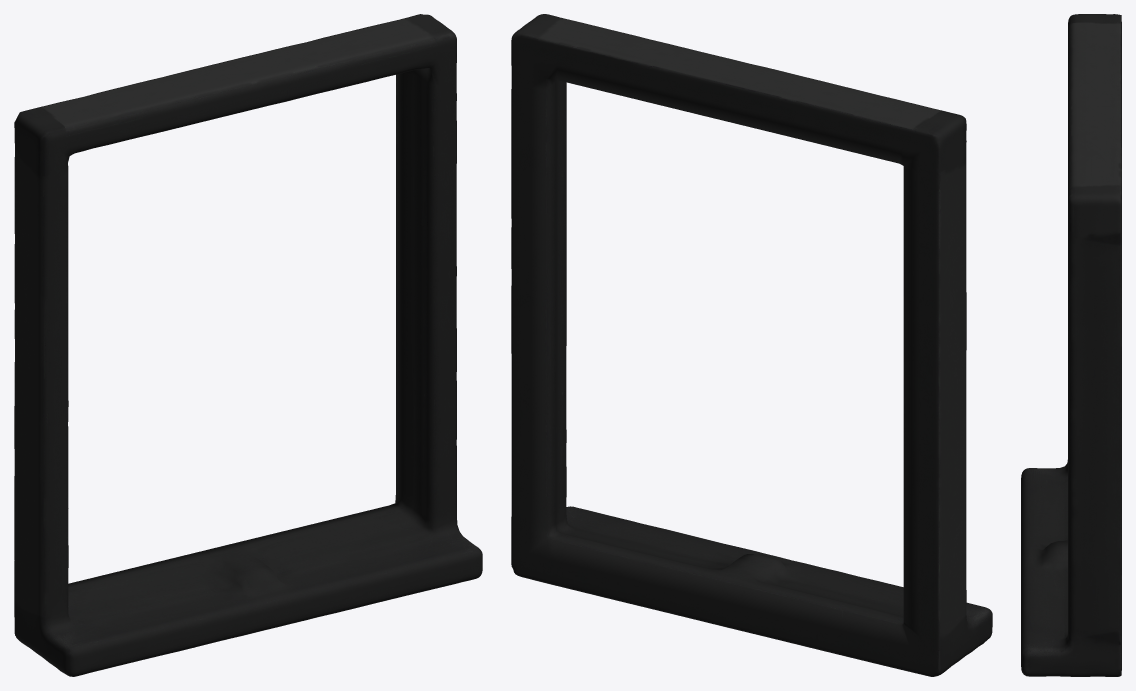
The model's file is Black_Square_WindowFrame.glb.
3 renders of one model, left to right at view 1: azimuth 30°, elevation 25°; view 2: azimuth 150°, elevation 25°; view 3: azimuth 270°, elevation 25°, orthographic. The views are drawn at different scales.
Bounding box in the file's own units: 1.58 × 1.91 × 0.3624.
Materials: 1 (1 with a texture image).
